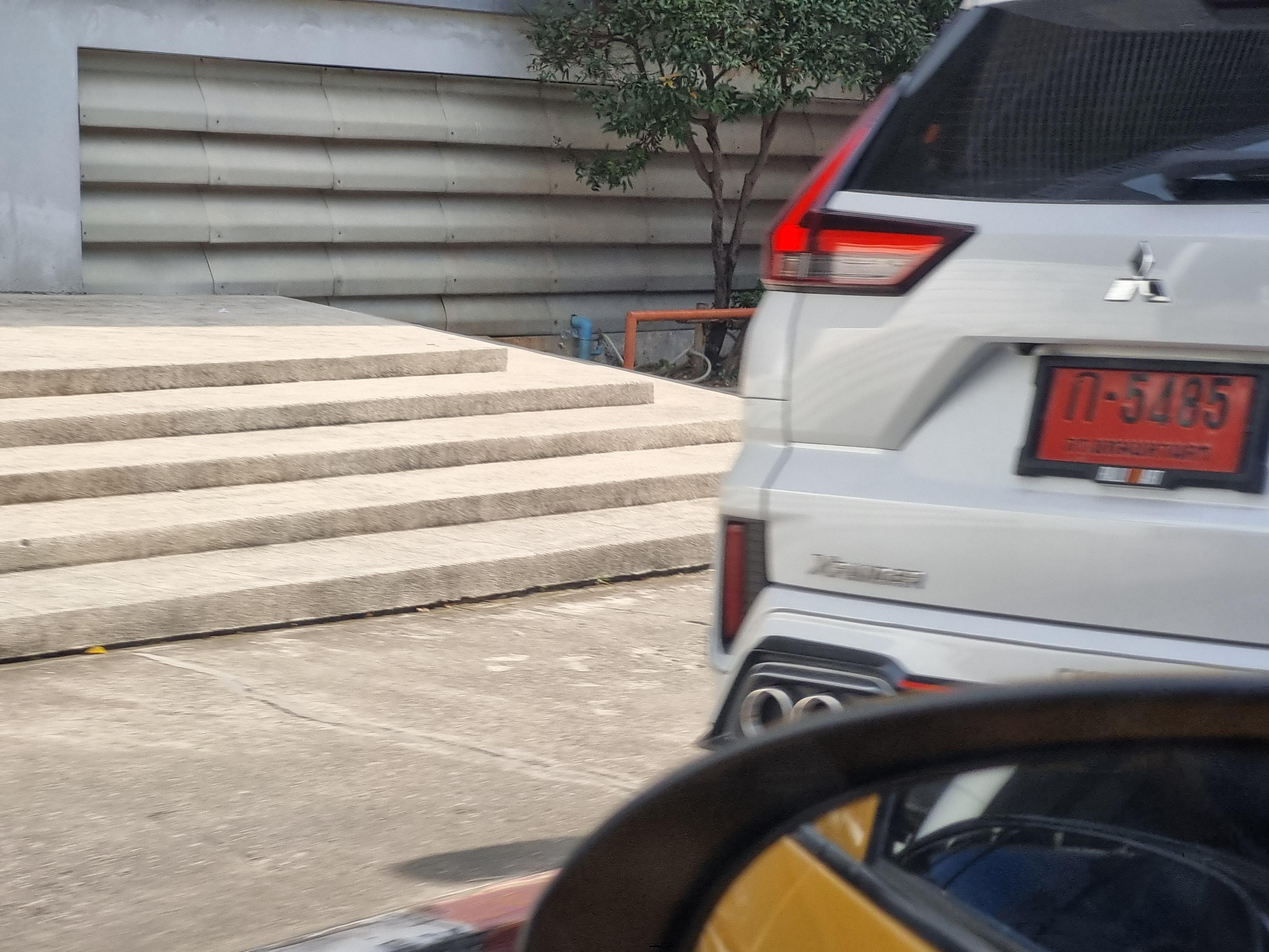license-plate: (1025, 347, 1269, 490)
